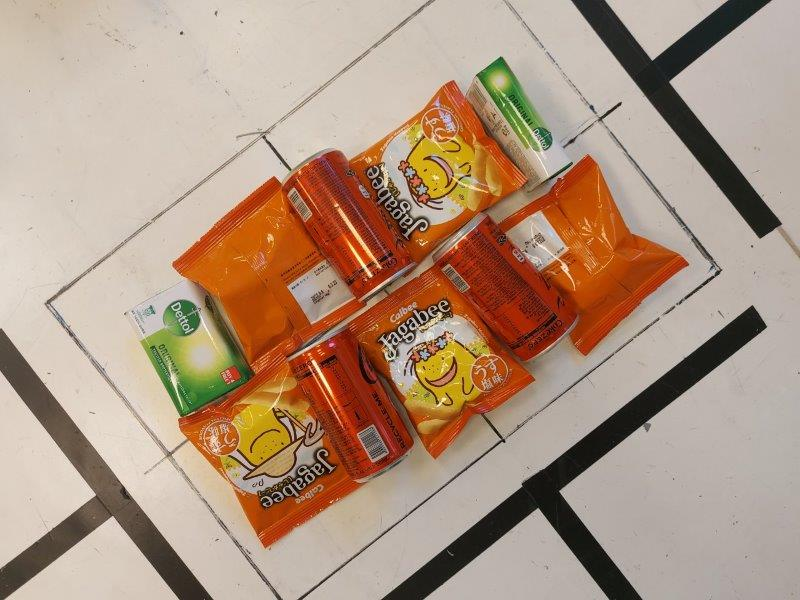Coke: (431, 212, 579, 365), (282, 148, 415, 302), (288, 327, 415, 483)
Dettol: (124, 278, 256, 416), (466, 57, 575, 191)
Jagabee: (489, 155, 693, 357), (338, 262, 538, 460), (171, 176, 368, 373), (178, 354, 374, 548), (344, 79, 529, 275)
